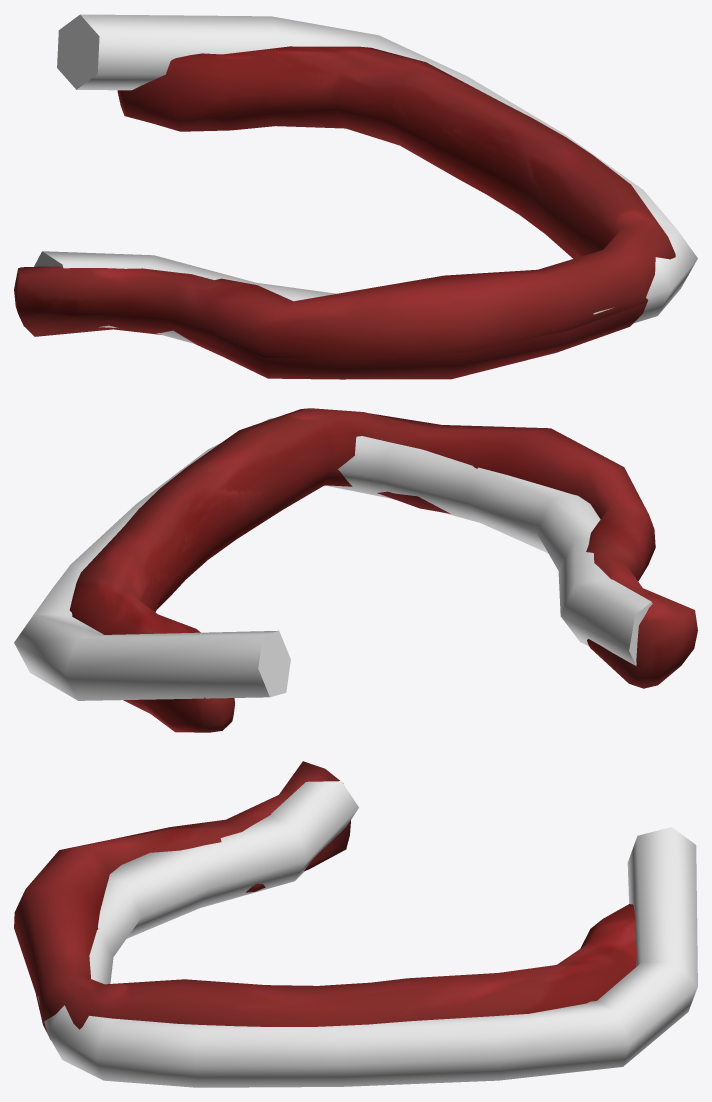
Rendered from jelita minotałra .fbx.
The picture shows the model from 3 angles, top to bottom: view 1: azimuth 30°, elevation 25°; view 2: azimuth 150°, elevation 25°; view 3: azimuth 270°, elevation 25°; orthographic projection. The views are drawn at different scales.
Visible parts, largest first — view 1: NurbsPath, NurbsPath.001; view 2: NurbsPath, NurbsPath.001; view 3: NurbsPath.001, NurbsPath.
Part boxes in pixels (x1,y1,x2,y2): NurbsPath: (14,46,675,379); NurbsPath.001: (34,14,697,343); NurbsPath: (69,408,697,732); NurbsPath.001: (14,418,652,700); NurbsPath.001: (37,781,697,1087); NurbsPath: (14,761,636,1039).
Bounding box in the file's own units: 340 × 74.35 × 366.
Materials: 1 (1 with a texture image).
